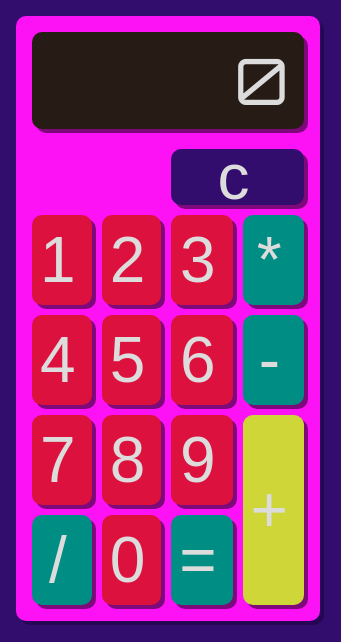
Test case: Calculator View › Deve resetar após um erro quando digitar
Step 1. Click the button with test id "button-1" → (62, 260), box [32, 214, 92, 304]
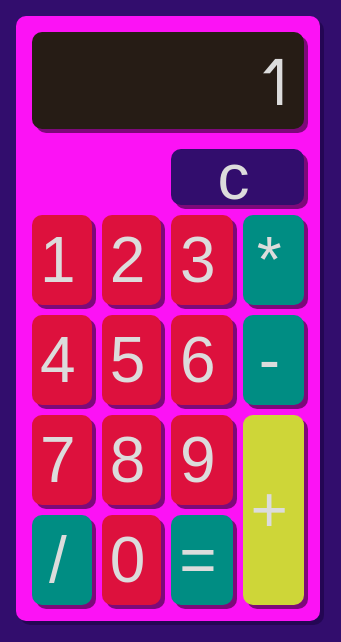
Step 2. Click the button with test id "button-+" → (273, 510), box [243, 414, 304, 604]
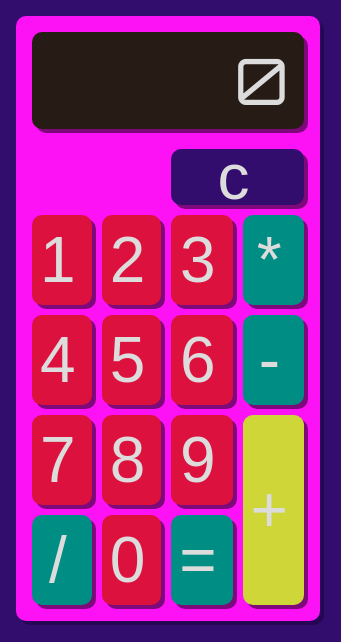
Step 3. Click the button with test id "button-3" → (202, 260), box [171, 214, 233, 304]
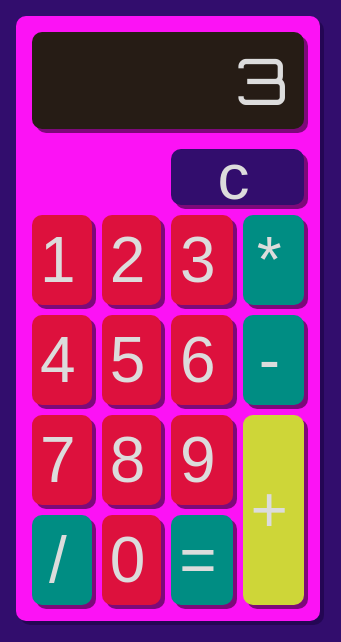
Step 4. Click the button with test id "button-=" → (202, 560), box [171, 514, 233, 604]
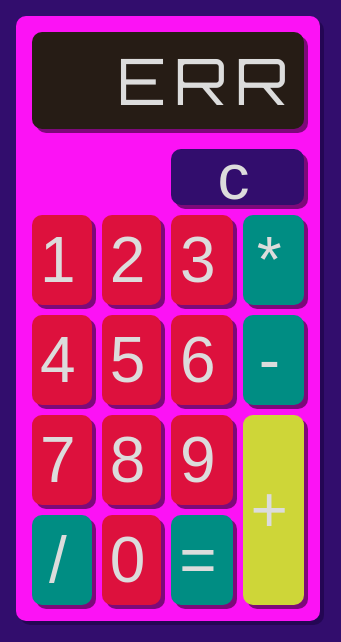
Check: the text with test id "display" reads "ERR", box [117, 40, 296, 120]
Step 5. Click the button with test id "button-2" → (131, 260), box [102, 214, 161, 304]
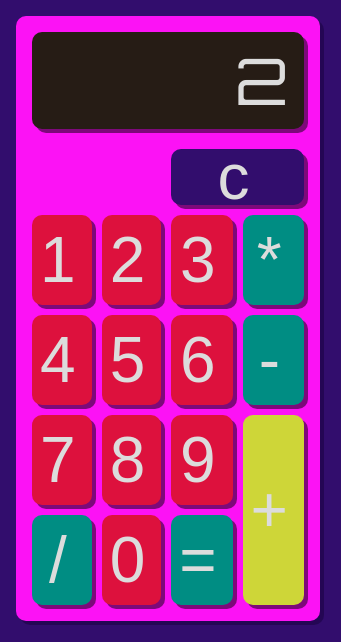
Check: the text with test id "display" reads "2", box [235, 40, 296, 120]
